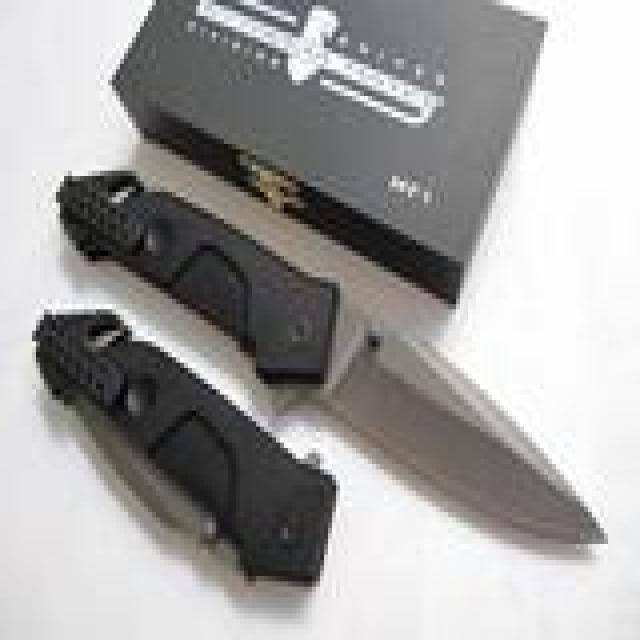Knife: (30, 131, 614, 553)
